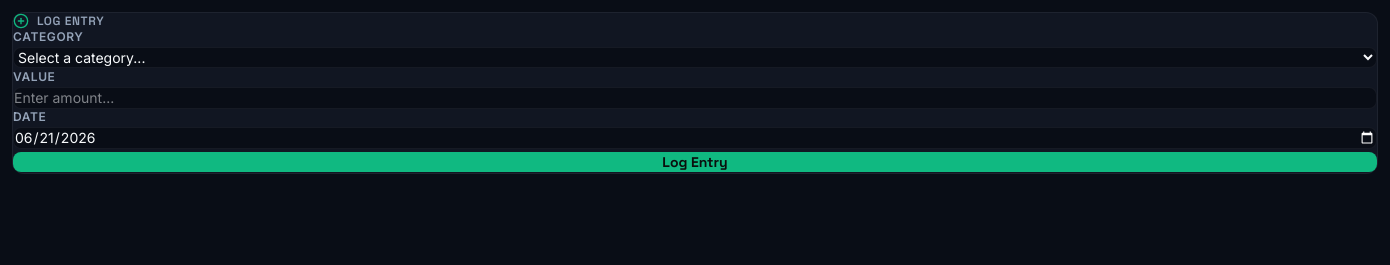
Test case: LogEntryForm Component › shows validation errors for invalid value input on submit
Note: Select category
Select "🚗 Transport — Emissions from travel and commuting" in the dropdown labelled "Category" at (695, 58), box top-left (13, 47), bottom-right (1377, 68)
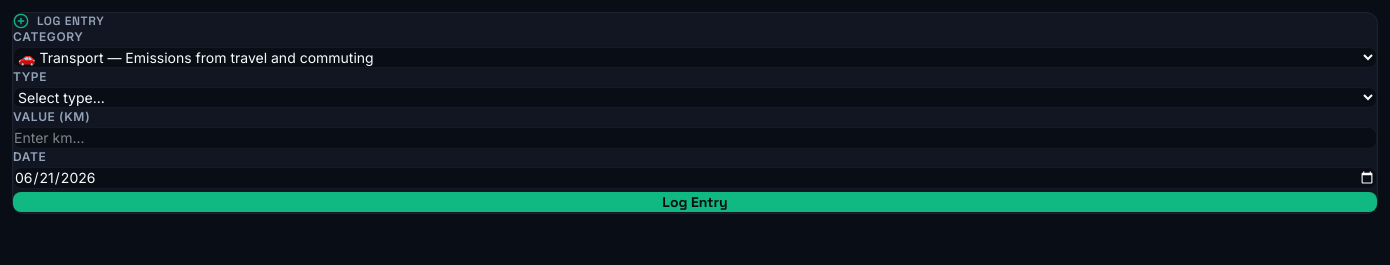
Note: Select mode/type
Select "Car (Petrol)" in the dropdown labelled "Type" at (695, 98), box top-left (13, 87), bottom-right (1377, 108)
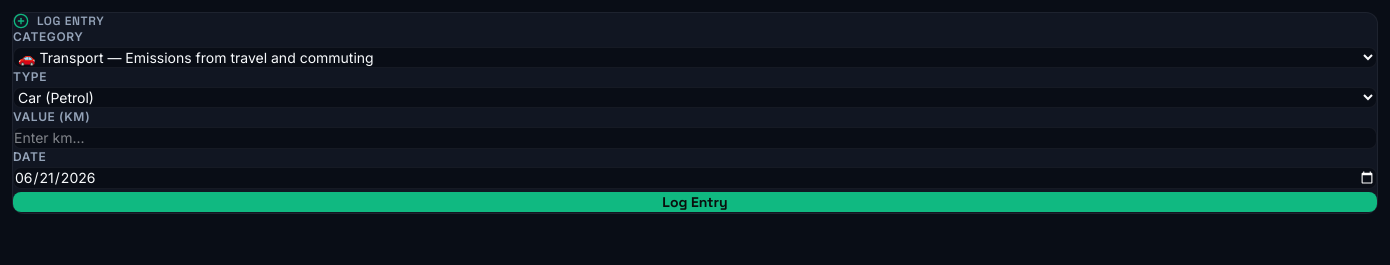
Note: Enter invalid non-numeric value
Type "abc" into the field labelled "Value (km)" at (695, 138), box top-left (13, 127), bottom-right (1377, 149)
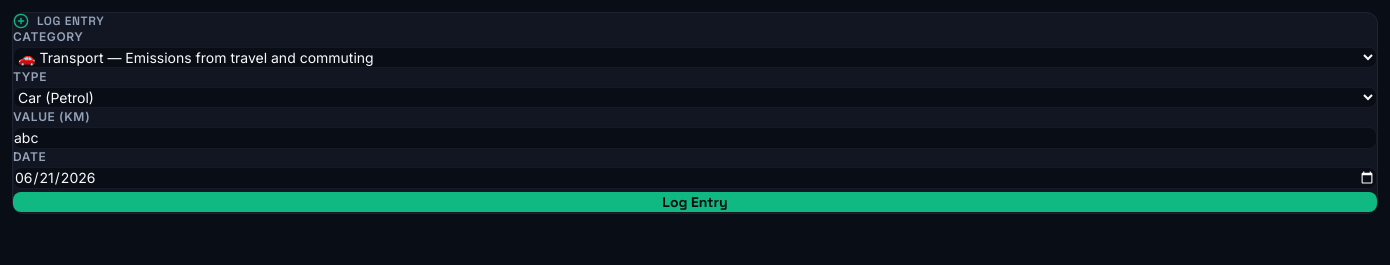
Submit the form
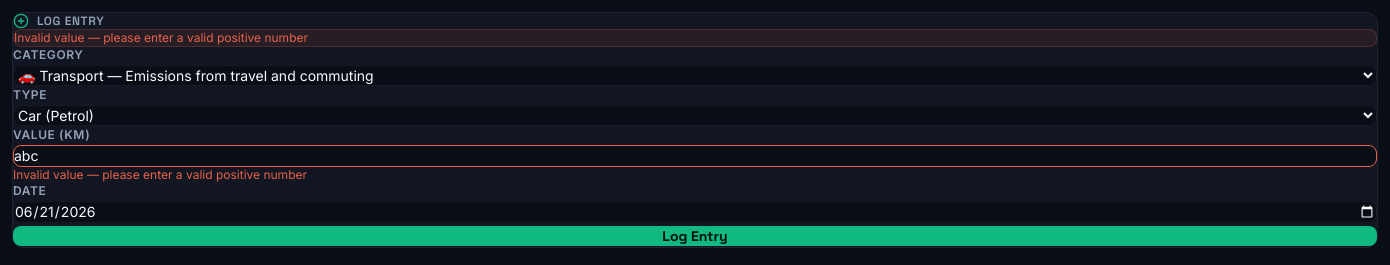
Check: the text "Invalid value — please enter a valid positive number" is shown, box top-left (14, 30), bottom-right (308, 45)
